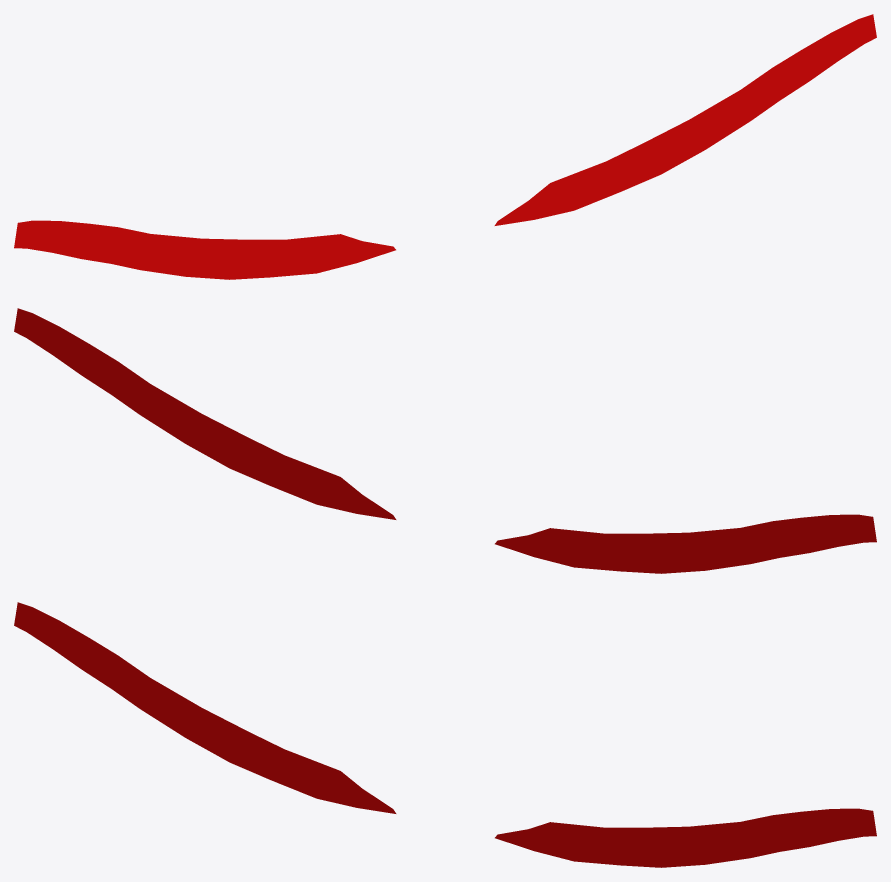
File: frame98.fbx
3 renders of one model, top to bottom at view 1: azimuth 30°, elevation 25°; view 2: azimuth 150°, elevation 25°; view 3: azimuth 330°, elevation 25°, orthographic.
Parts seen in each view (by area): view 1: MaterialLayer; view 2: MaterialLayer; view 3: MaterialLayer.
Boxes of the visible parts, x1,y1,x2,y2 form: MaterialLayer: (14,14,876,279); MaterialLayer: (14,308,876,573); MaterialLayer: (14,602,876,867).
Bounding box in the file's own units: 1353 × 185 × 5.34e-06.
